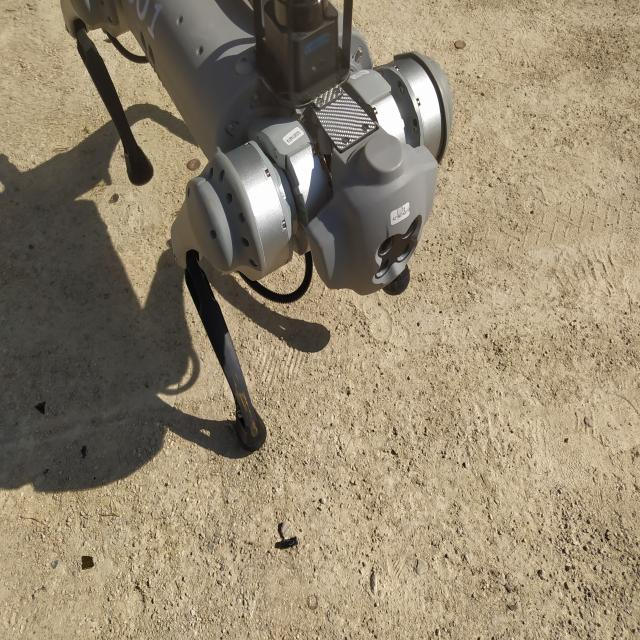unitree-go1-robot: (60, 0, 456, 459)
